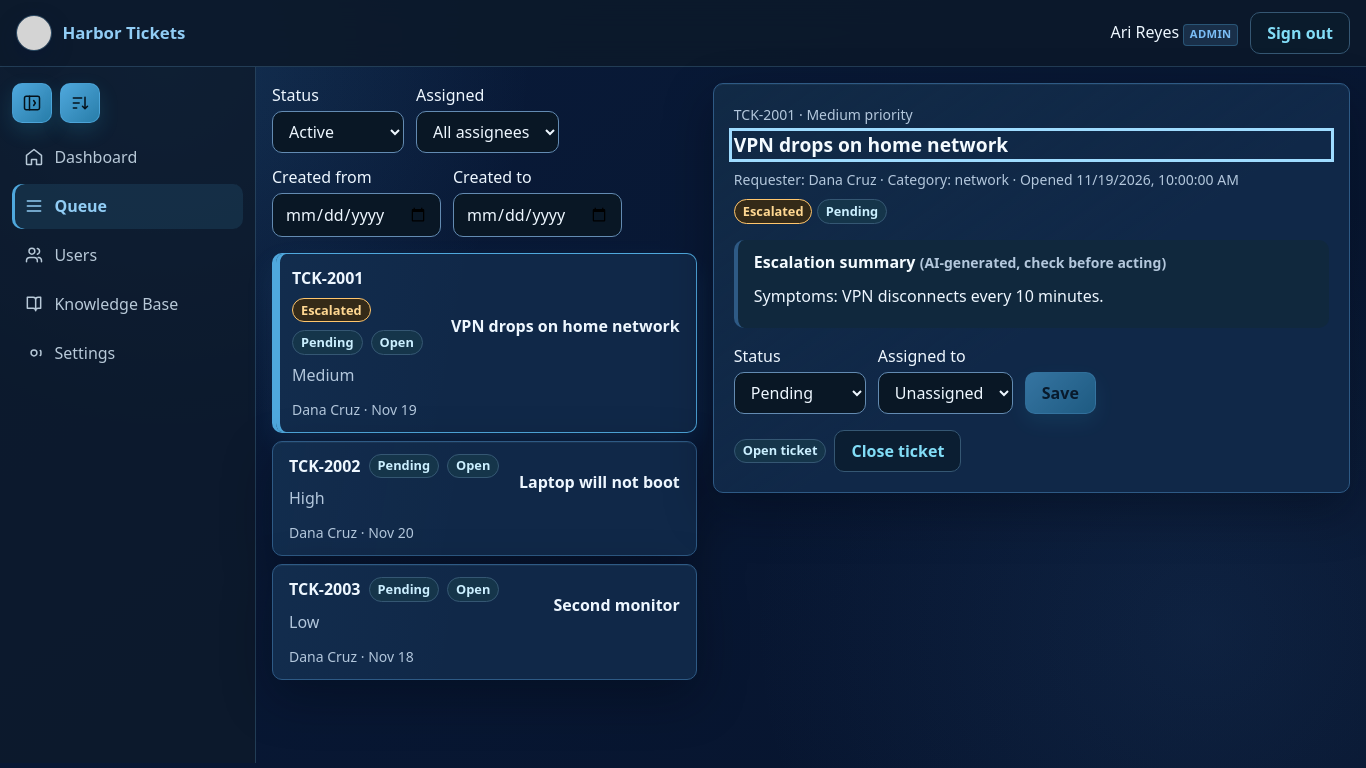
Test: admin queue and ticket detail (S3-06) › shows the denied message when the API rejects the update
Select "In progress" in the dropdown labelled "Status" below "Assigned to" at (800, 393), box top-left (734, 372), bottom-right (866, 414)
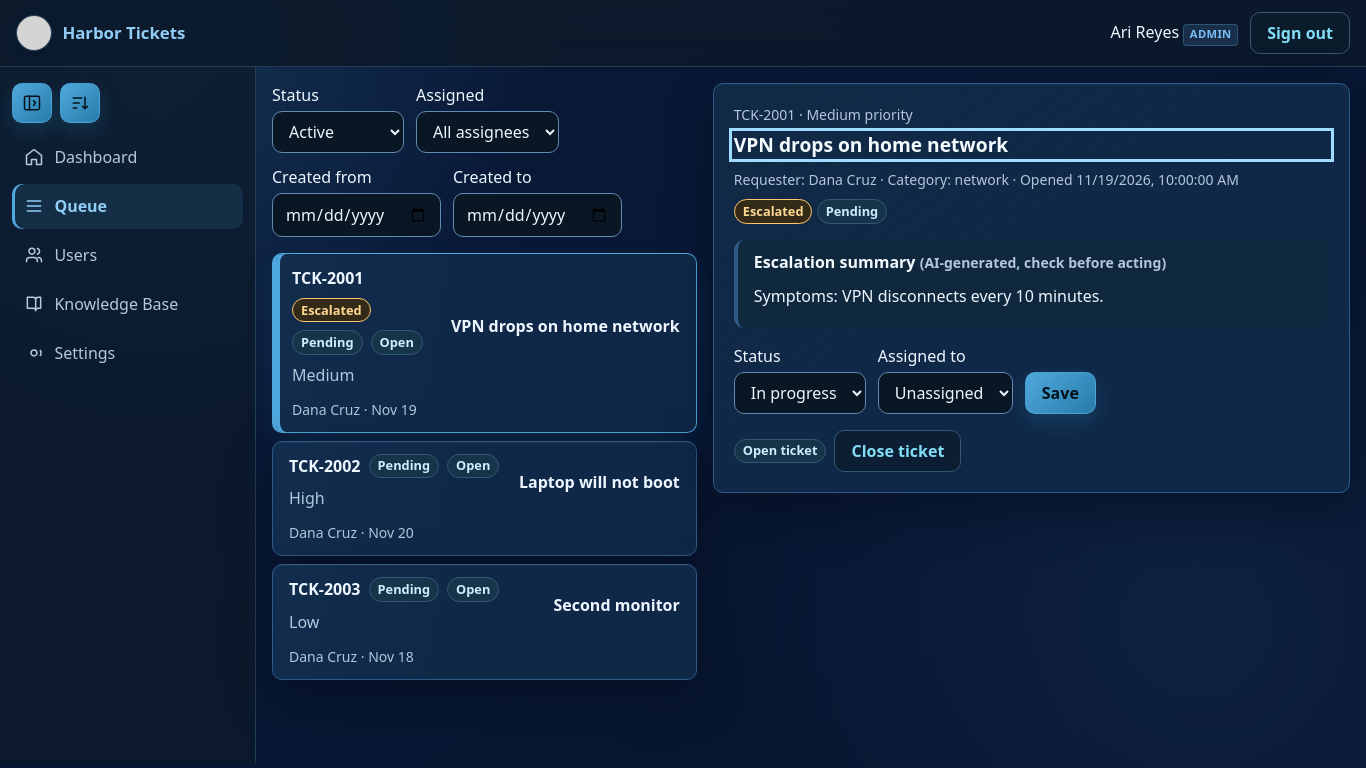
Click the button "Save".
click(1060, 393)  # box top-left (1025, 372), bottom-right (1096, 414)
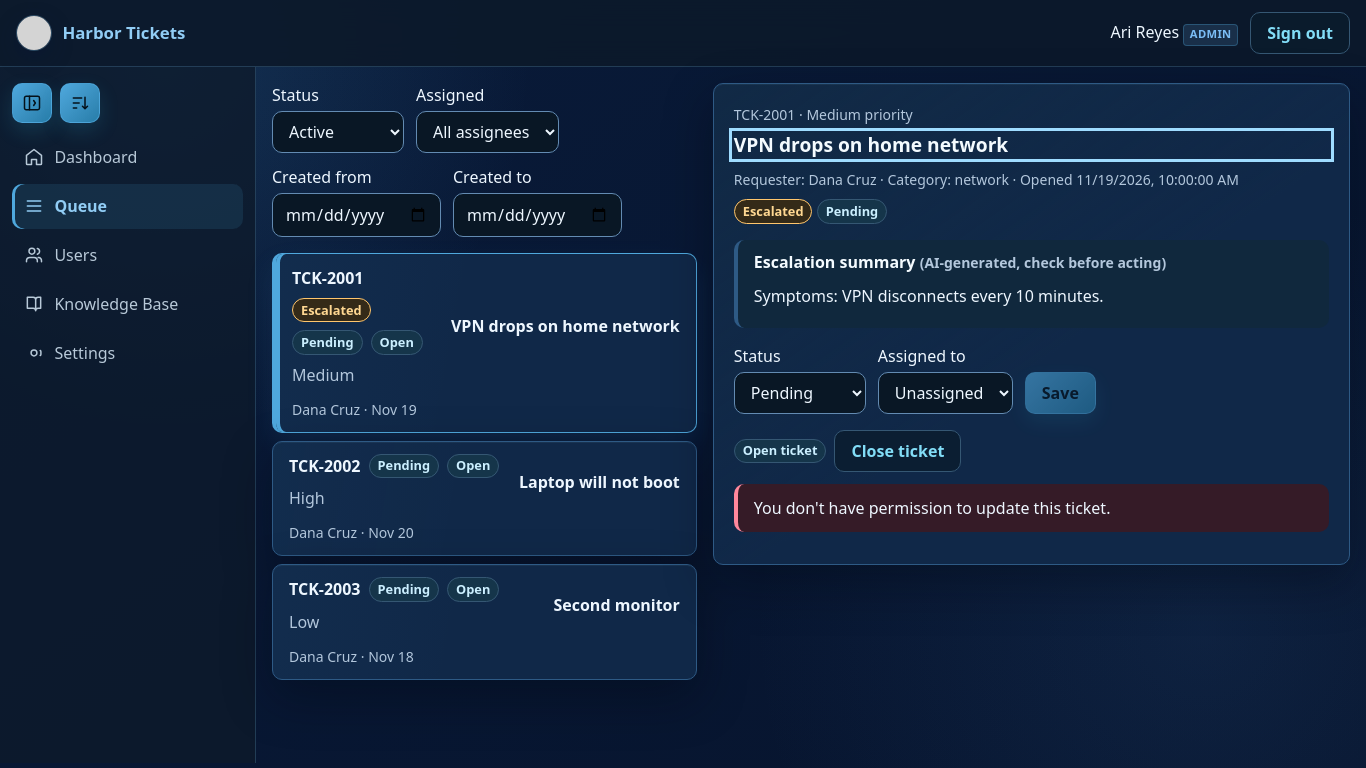
Result: the message reads "You don't have permission to update this ticket." at top-left (754, 497), bottom-right (1110, 519)
